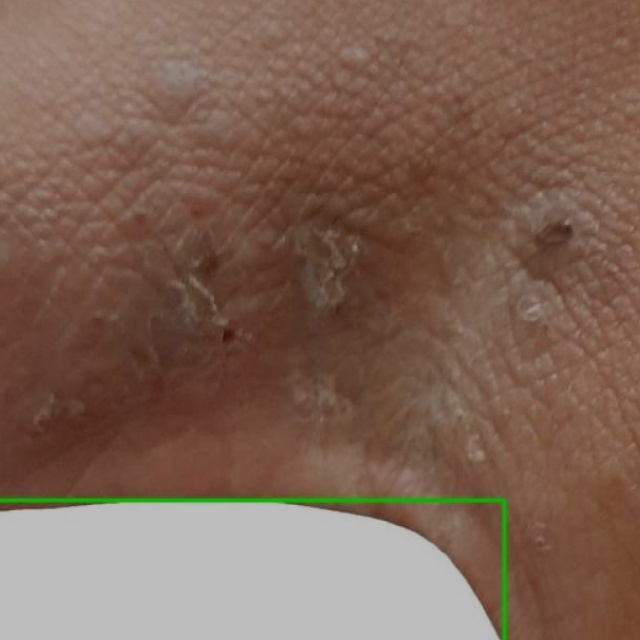Scabies: (0, 500, 505, 639)
